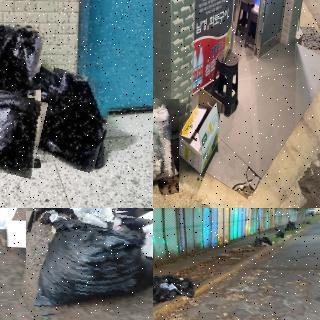Garbage: (22, 208, 153, 320), (36, 71, 111, 170), (0, 84, 44, 173), (0, 21, 43, 95), (153, 98, 182, 194), (37, 208, 120, 225), (174, 279, 191, 291), (254, 236, 273, 246), (153, 276, 166, 289), (275, 229, 286, 238), (287, 222, 298, 231)
